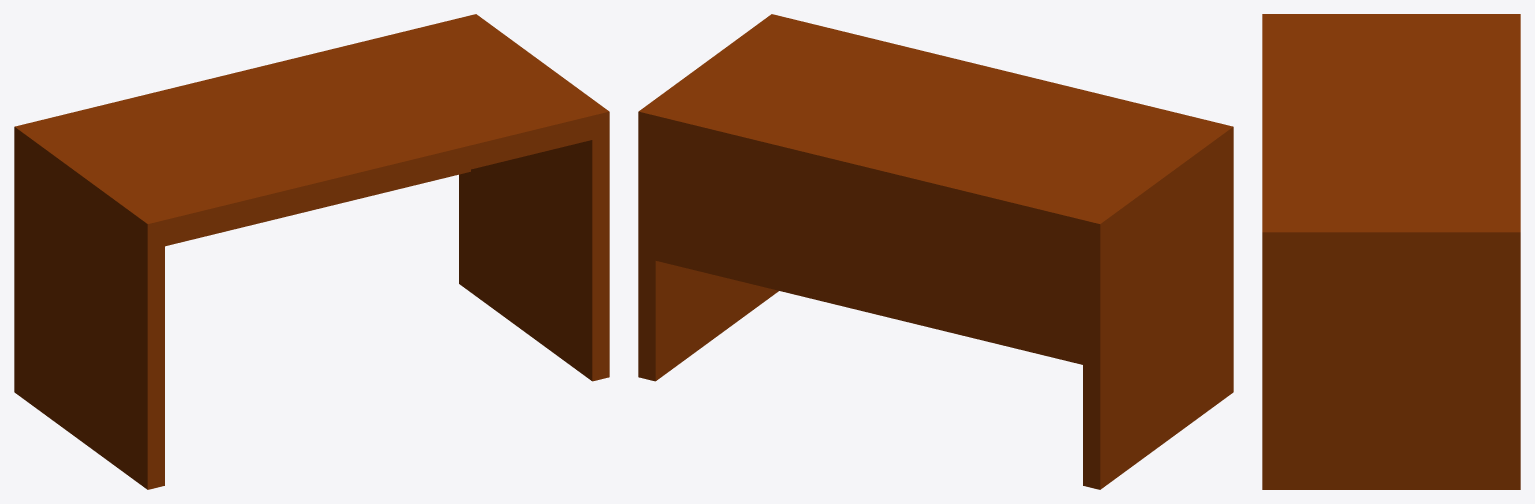
File: table.dae
3 views of the same model, side by side, from view 1: azimuth 30°, elevation 25°; view 2: azimuth 150°, elevation 25°; view 3: azimuth 270°, elevation 25° (orthographic). The views are drawn at different scales.
Parts seen in each view (by area): view 1: Cube; view 2: Cube; view 3: Cube.
Part boxes in pixels (left/top/right/bottom): Cube: left=14, top=14, right=609, bottom=489; Cube: left=638, top=14, right=1233, bottom=489; Cube: left=1262, top=14, right=1520, bottom=489.
Size of the model in its own units: 4 by 2 by 2.2.
